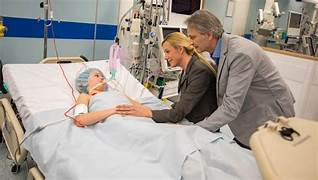family member: (185, 9, 231, 69), (160, 30, 189, 84)
patient: (75, 66, 126, 121)
